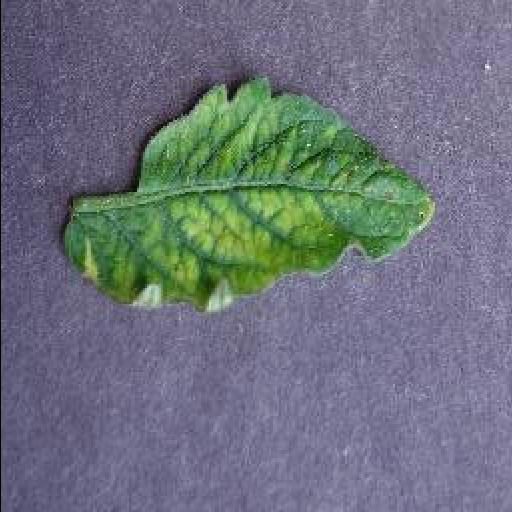Mosaic Virus: (60, 76, 438, 314)
